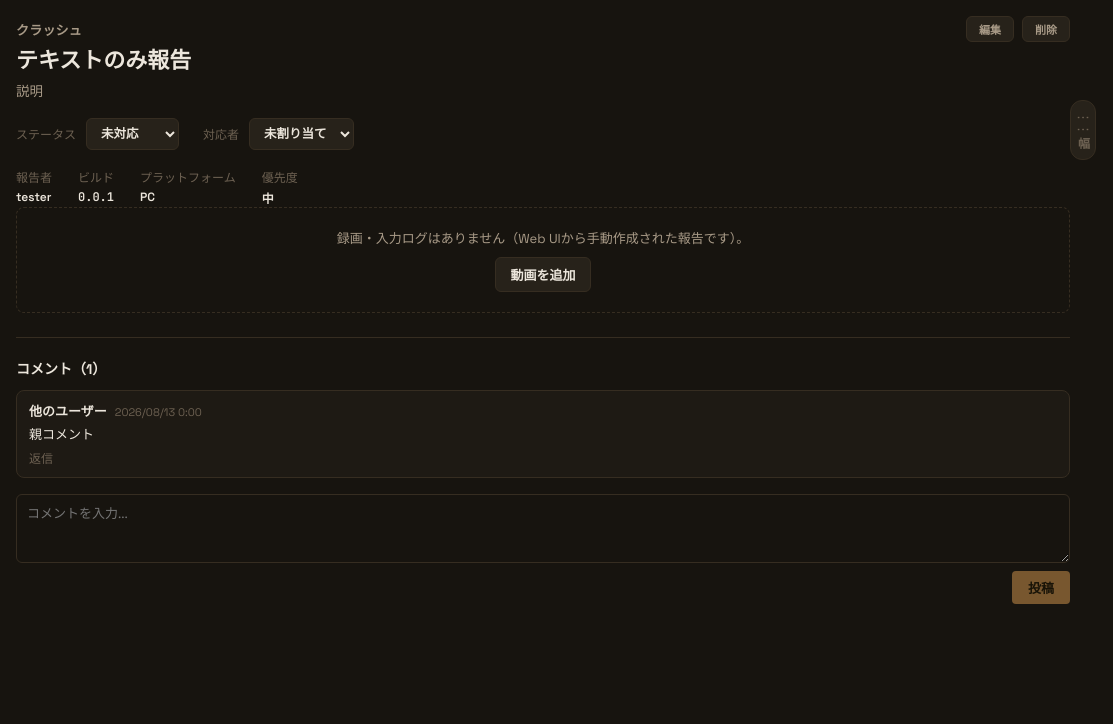
Test: BugDetailPage - comment thread › lets the user reply to a comment, nesting it under the parent
This screenshot has width=1113, height=724.
Expected: the text "親コメント" is shown, [29, 426, 94, 443]
Click the button "返信".
click(41, 458)  # box [29, 449, 53, 467]
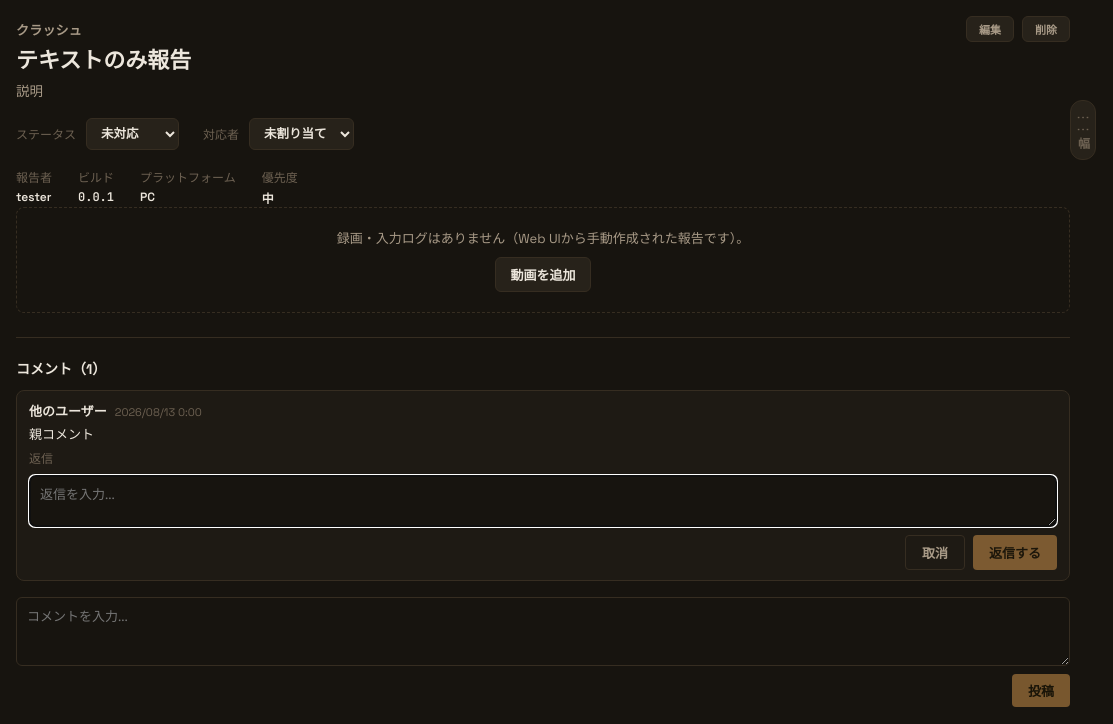
Type "返信です" into the text box with placeholder "返信を入力...".
click(543, 501); type("返信です")  # box [29, 475, 1057, 527]
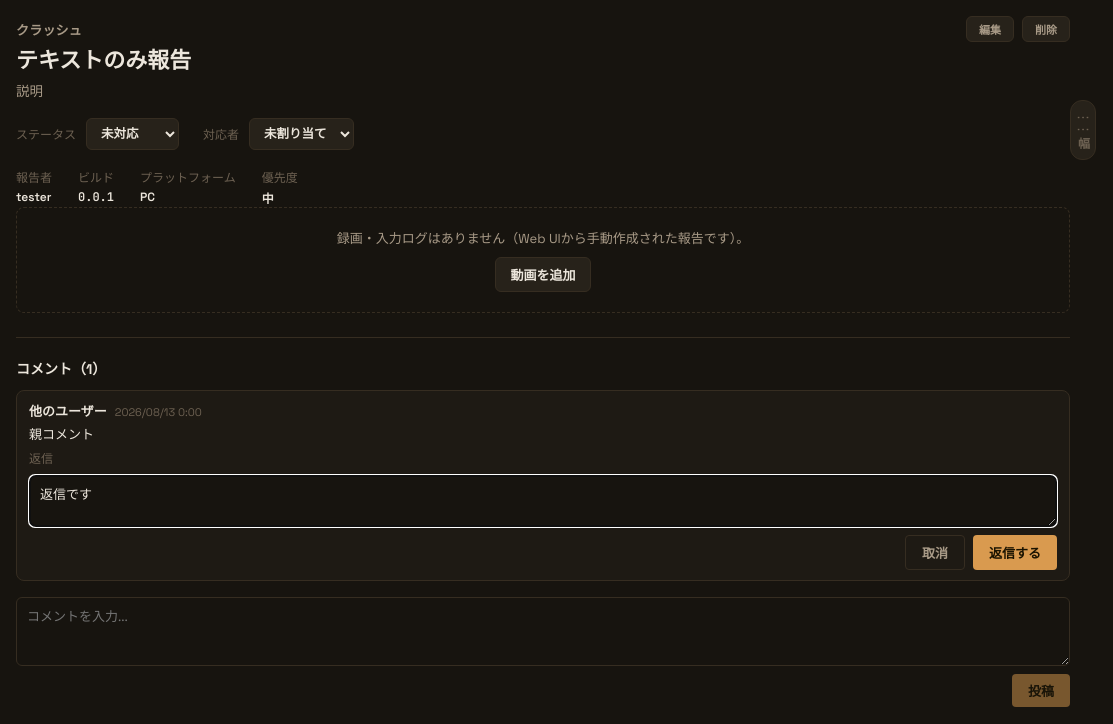
Click the button "返信する".
click(1015, 553)  # box [973, 535, 1057, 570]
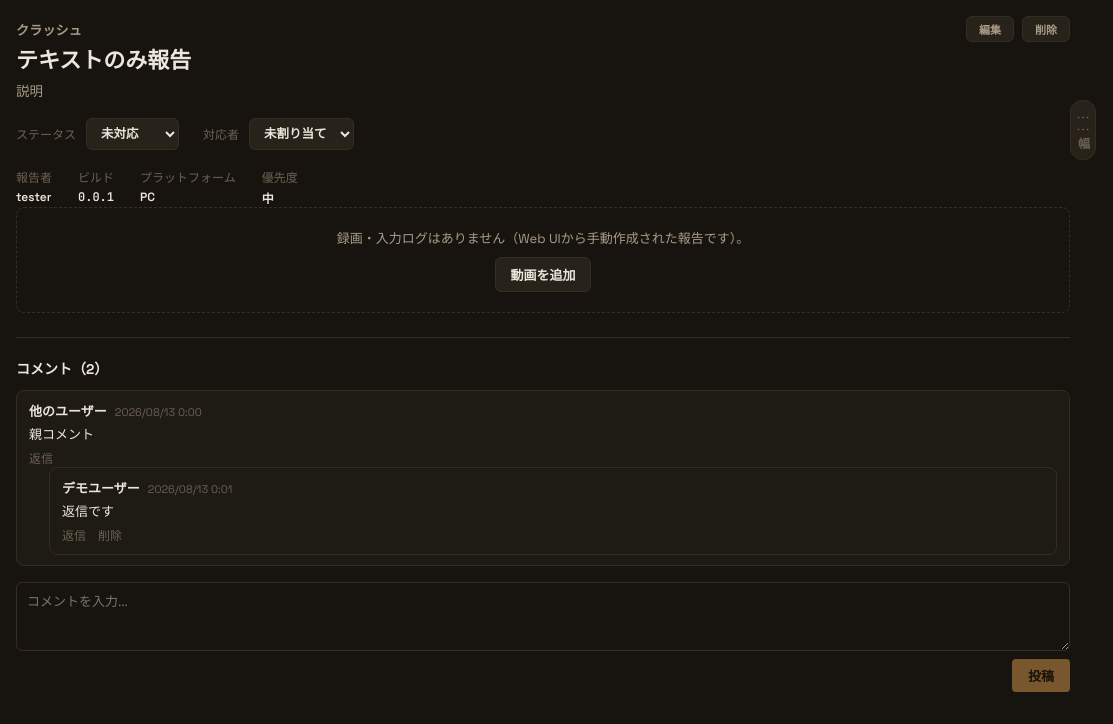
Expected: the text "返信です" is shown, [62, 503, 114, 520]
